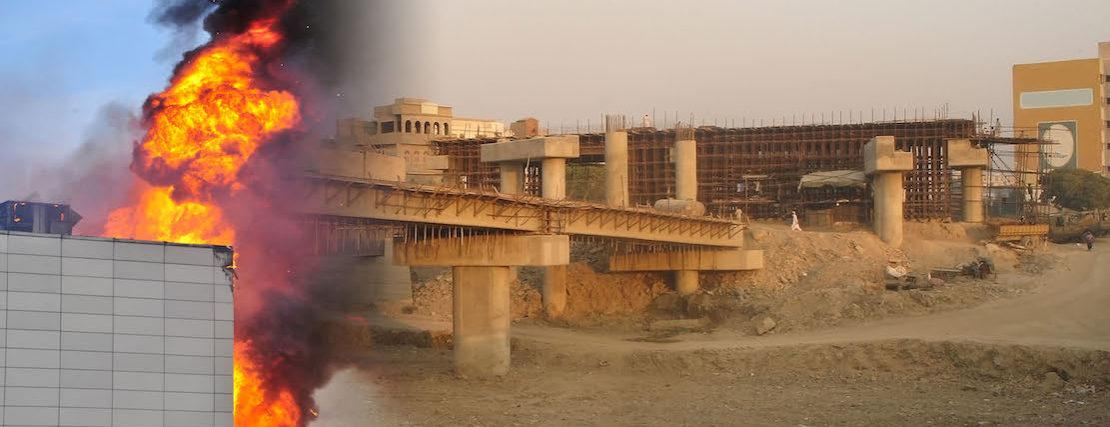Fire: (104, 9, 342, 427)
